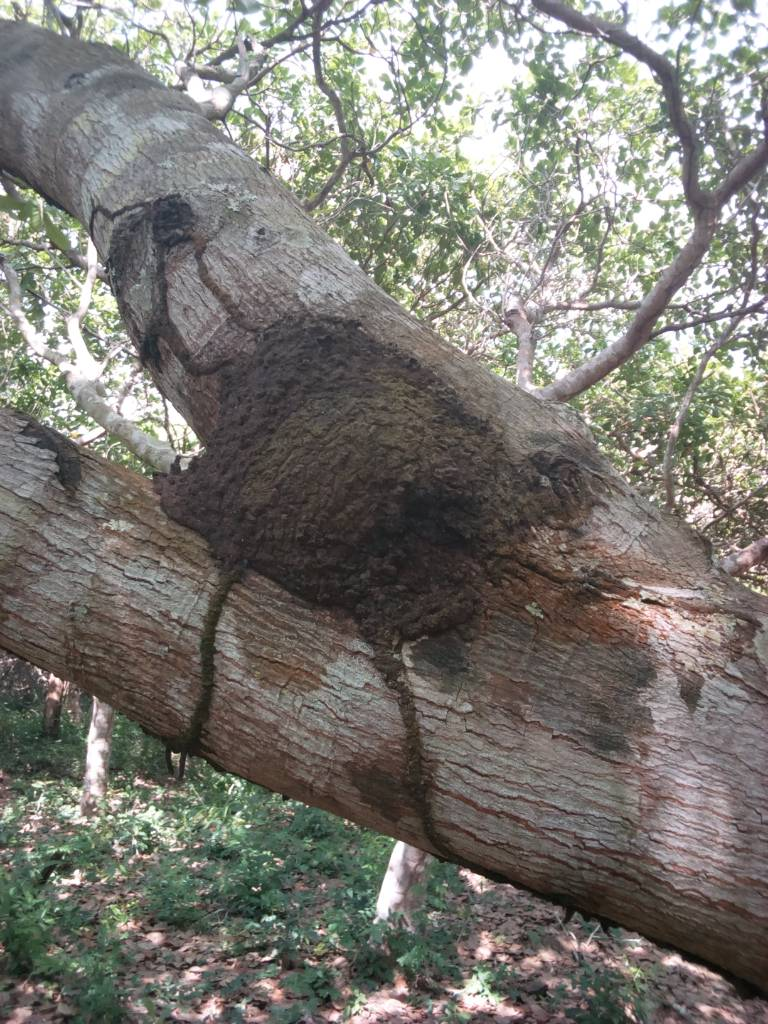Termites: (166, 334, 506, 654)
